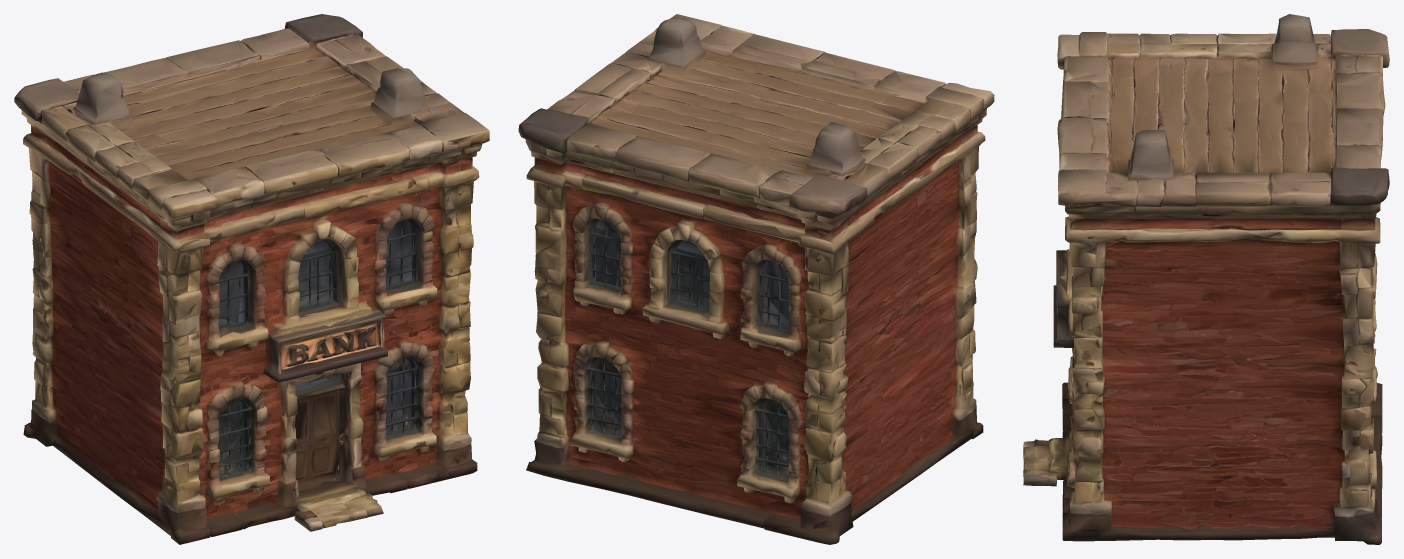
File: bld_west_bank.fbx
3 views of the same model, side by side, from view 1: azimuth 30°, elevation 25°; view 2: azimuth 150°, elevation 25°; view 3: azimuth 270°, elevation 25° (orthographic). The views are drawn at different scales.
Parts seen in each view (by area): view 1: bld_west_bank_LOD0; view 2: bld_west_bank_LOD0; view 3: bld_west_bank_LOD0.
Boxes of the visible parts, <box> form: bld_west_bank_LOD0: <box>14,14,489,544</box>; bld_west_bank_LOD0: <box>518,14,994,544</box>; bld_west_bank_LOD0: <box>1023,14,1389,544</box>.
Size of what is drawn, in the model's own units: 0.8944 by 0.9804 by 0.8338.
